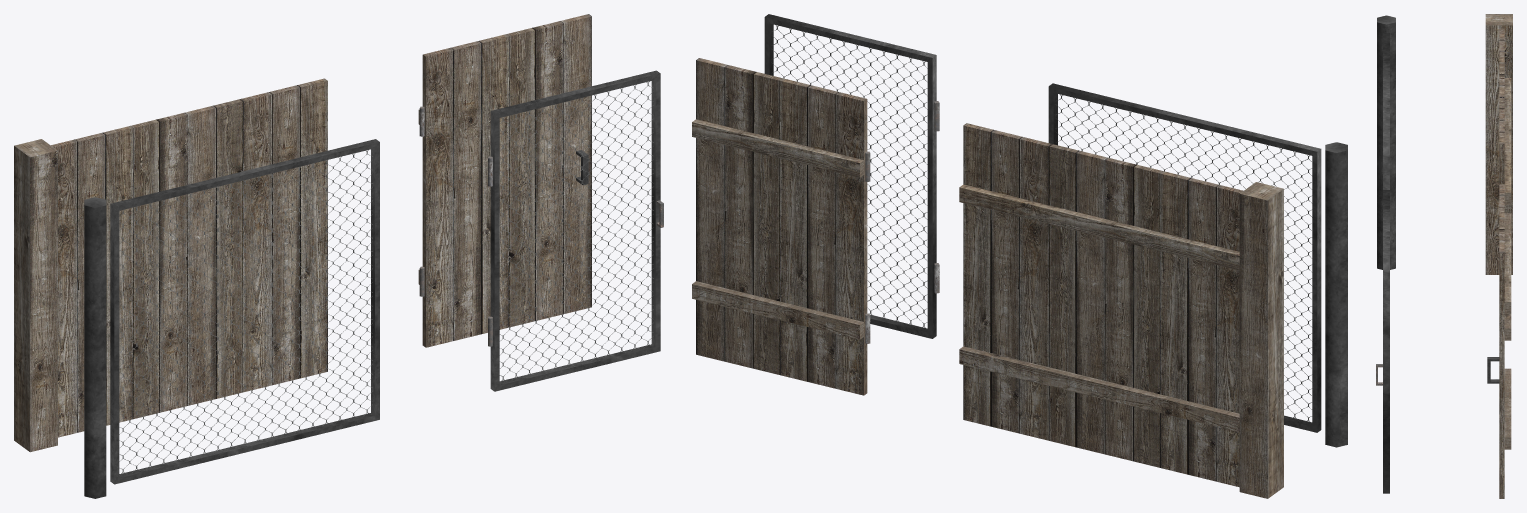
The model's file is FENCE.FBX.
The picture shows the model from 3 angles, left to right: view 1: azimuth 30°, elevation 25°; view 2: azimuth 150°, elevation 25°; view 3: azimuth 270°, elevation 25°; orthographic projection. The views are drawn at different scales.
Visible parts, largest first — view 1: FENCEWOOD, DOORWOOD, FENCEMETAL, DOORMETAL, FENCEWOODBLOCK, FENCEMETALTUBE; view 2: FENCEWOOD, DOORWOOD, FENCEWOODBLOCK, DOORMETAL, FENCEMETAL, FENCEMETALTUBE; view 3: FENCEWOODBLOCK, DOORWOOD, FENCEMETALTUBE, FENCEWOOD, DOORMETAL, FENCEMETAL.
Part boxes in pixels (left/top/right/bottom): FENCEWOOD: left=51, top=78, right=327, bottom=437; DOORWOOD: left=418, top=14, right=591, bottom=347; FENCEMETAL: left=110, top=139, right=379, bottom=484; DOORMETAL: left=488, top=70, right=663, bottom=391; FENCEWOODBLOCK: left=14, top=139, right=57, bottom=452; FENCEMETALTUBE: left=84, top=197, right=106, bottom=498; FENCEWOOD: left=959, top=123, right=1243, bottom=487; DOORWOOD: left=692, top=58, right=870, bottom=395; FENCEWOODBLOCK: left=1239, top=182, right=1283, bottom=498; DOORMETAL: left=764, top=14, right=939, bottom=338; FENCEMETAL: left=1048, top=83, right=1321, bottom=432; FENCEMETALTUBE: left=1325, top=142, right=1347, bottom=447; FENCEWOODBLOCK: left=1485, top=14, right=1512, bottom=274; DOORWOOD: left=1487, top=184, right=1511, bottom=498; FENCEMETALTUBE: left=1377, top=15, right=1395, bottom=269; FENCEWOOD: left=1499, top=28, right=1511, bottom=340; DOORMETAL: left=1376, top=190, right=1389, bottom=493; FENCEMETAL: left=1383, top=33, right=1389, bottom=189.
Size of the model in its own units: 2.07 by 1.01 by 0.5032.
Materials: 3 (3 with a texture image).
